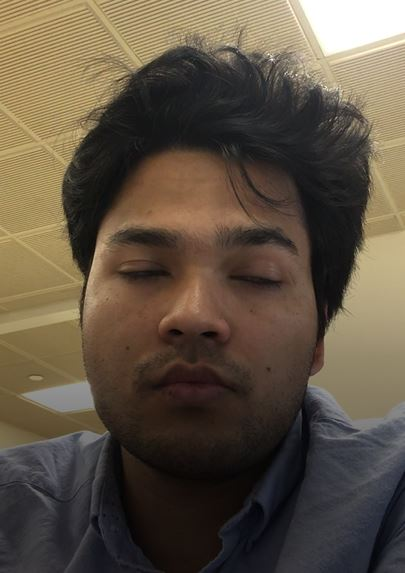Sleeping: (93, 238, 314, 309)
